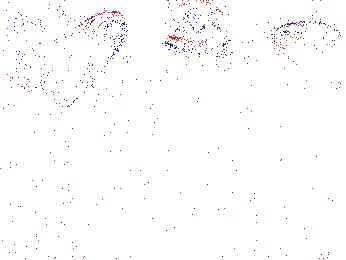moon jellyfish: (50, 9, 127, 108), (1, 1, 74, 94), (269, 21, 346, 91), (153, 1, 238, 52)
